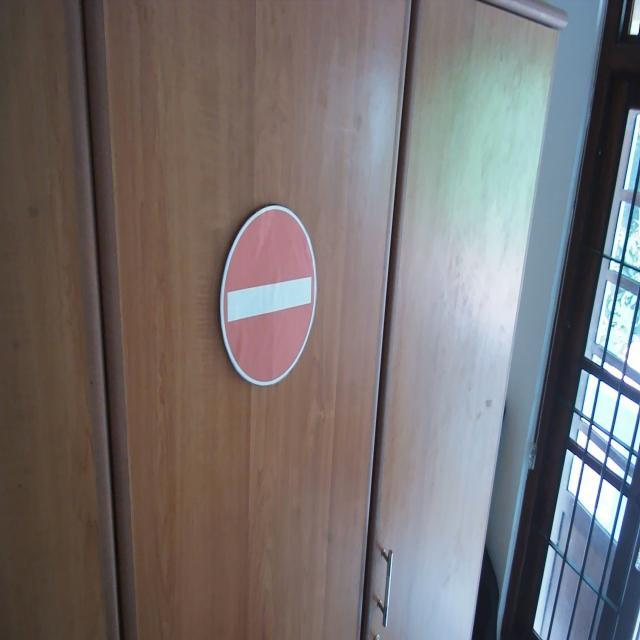no_entry: (218, 202, 318, 390)
